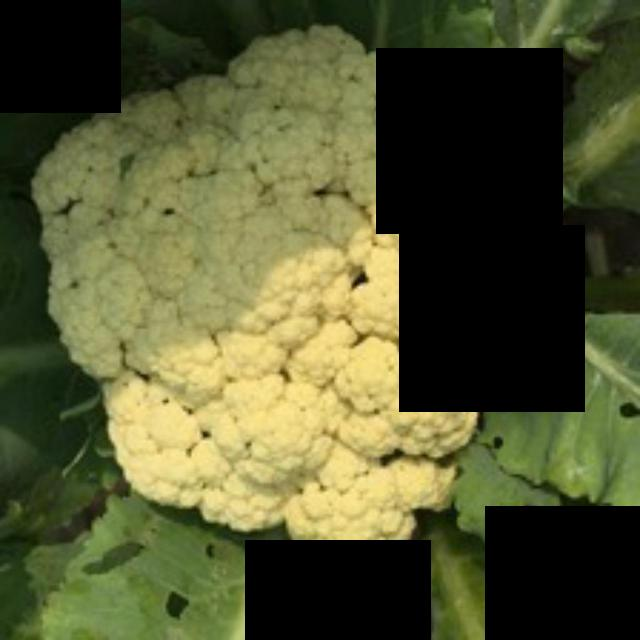cauliflower: (36, 29, 570, 576)
